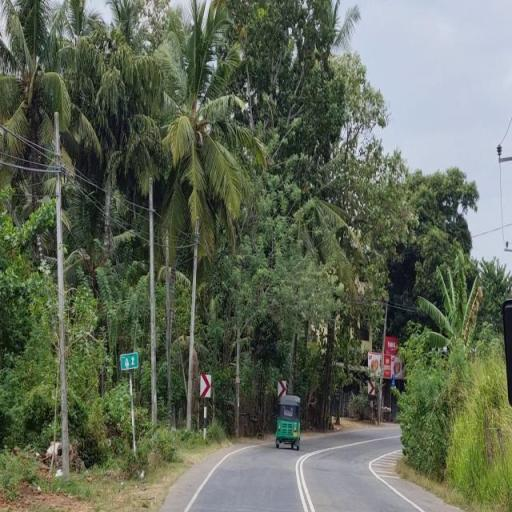double_white_line: (368, 447, 426, 511), (295, 448, 329, 511)
